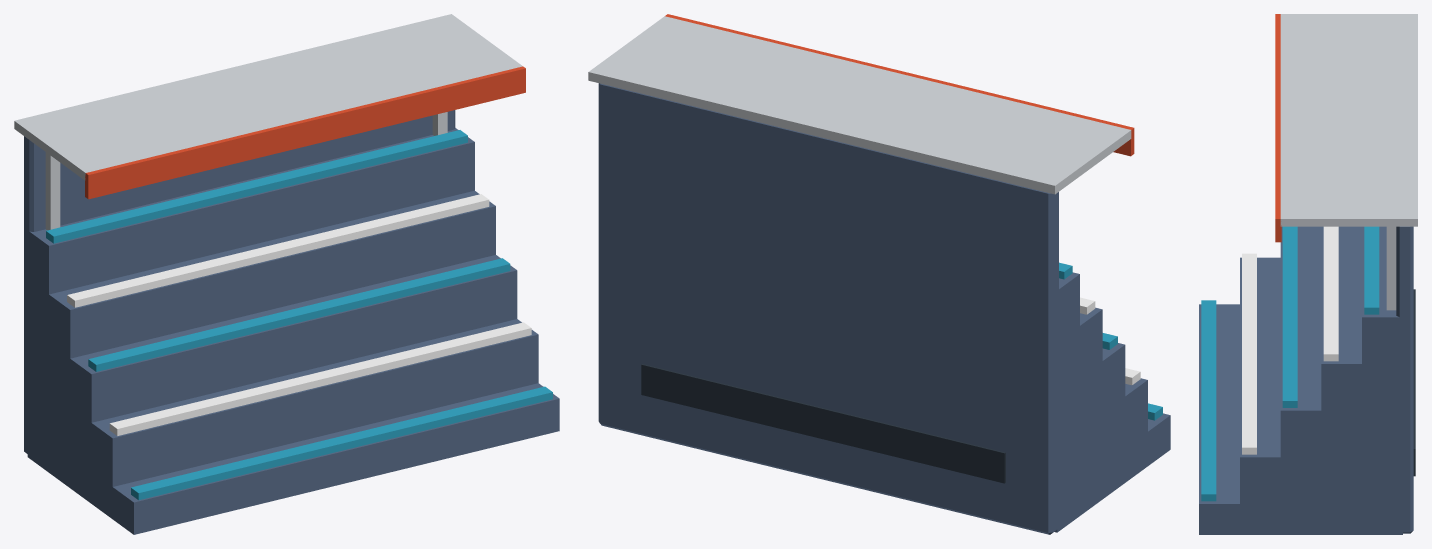
Rendered from d_stand.fbx.
The picture shows the model from 3 angles, left to right: view 1: azimuth 30°, elevation 25°; view 2: azimuth 150°, elevation 25°; view 3: azimuth 270°, elevation 25°; orthographic projection. The views are drawn at different scales.
Visible parts, largest first — view 1: d_stand; view 2: d_stand; view 3: d_stand.
Boxes of the visible parts, x1,y1,x2,y2 form: d_stand: (14, 14, 559, 534); d_stand: (588, 14, 1170, 534); d_stand: (1199, 14, 1417, 534).
Bounding box in the file's own units: 22.6 × 16.4 × 10.2.
